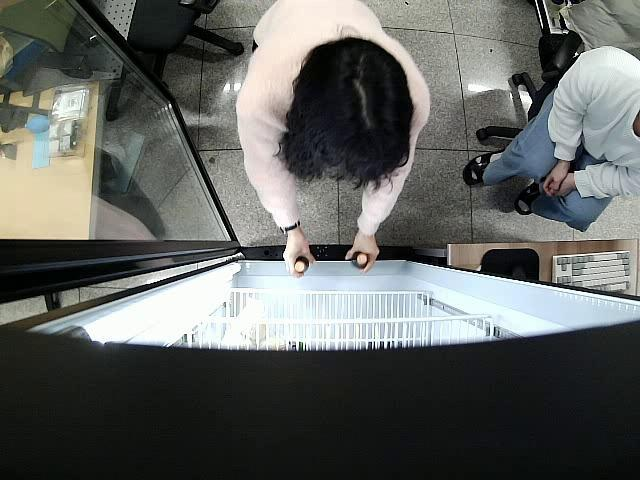17_vita500: (294, 256, 312, 276), (352, 251, 368, 270)
